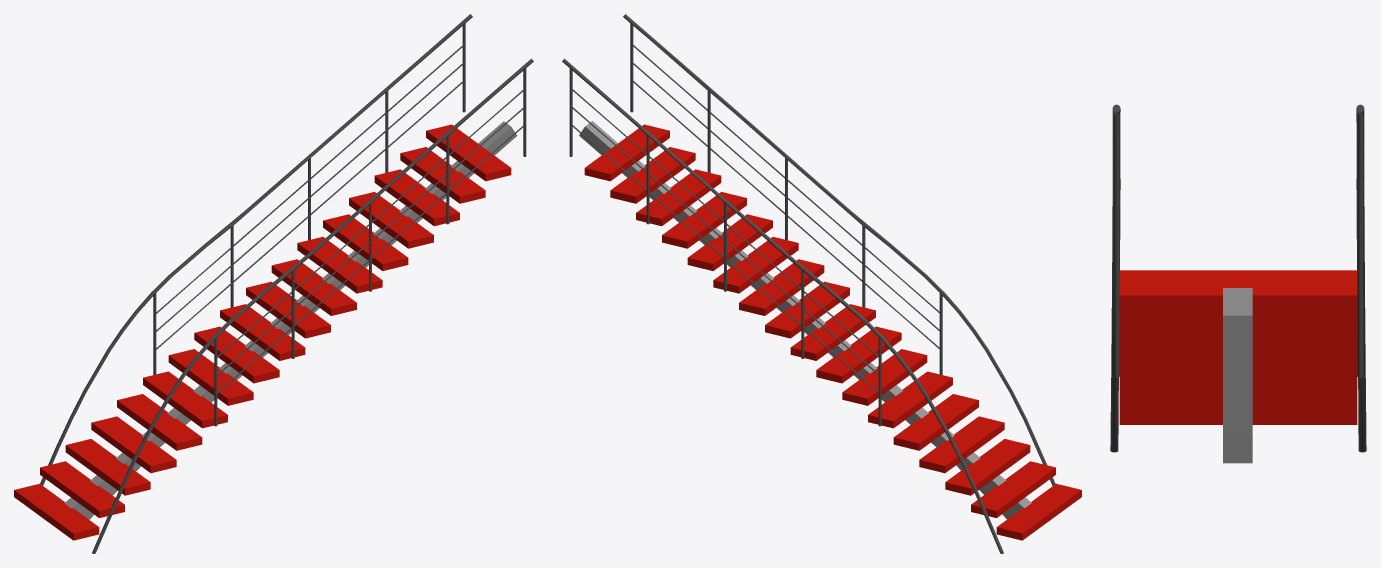
The model's file is modern staircase.fbx.
The picture shows the model from 3 angles, left to right: view 1: azimuth 30°, elevation 25°; view 2: azimuth 150°, elevation 25°; view 3: azimuth 270°, elevation 25°; orthographic projection. The views are drawn at different scales.
Parts seen in each view (by area): view 1: Modern Staircase.002; view 2: Modern Staircase.002; view 3: Modern Staircase.002.
Boxes of the visible parts, <box> form: Modern Staircase.002: <box>14,14,533,553</box>; Modern Staircase.002: <box>562,14,1081,553</box>; Modern Staircase.002: <box>1110,104,1366,463</box>.
Bounding box in the file's own units: 547 × 431 × 129.
